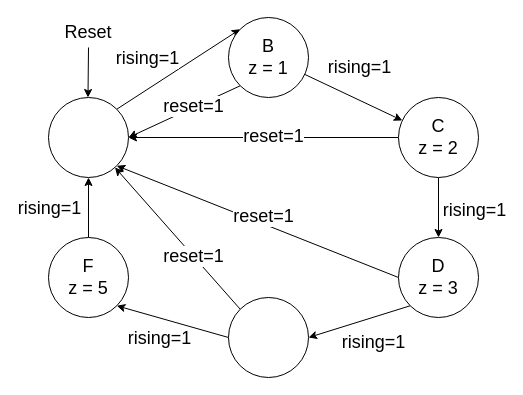
The diagram is 523 pixels wide and 395 high, and some of its shapes have lost their labels. The centre of each missing label's shape, as x and y in pixels:
A z = 0: the point at 88,137
E z = 4: the point at 268,337
